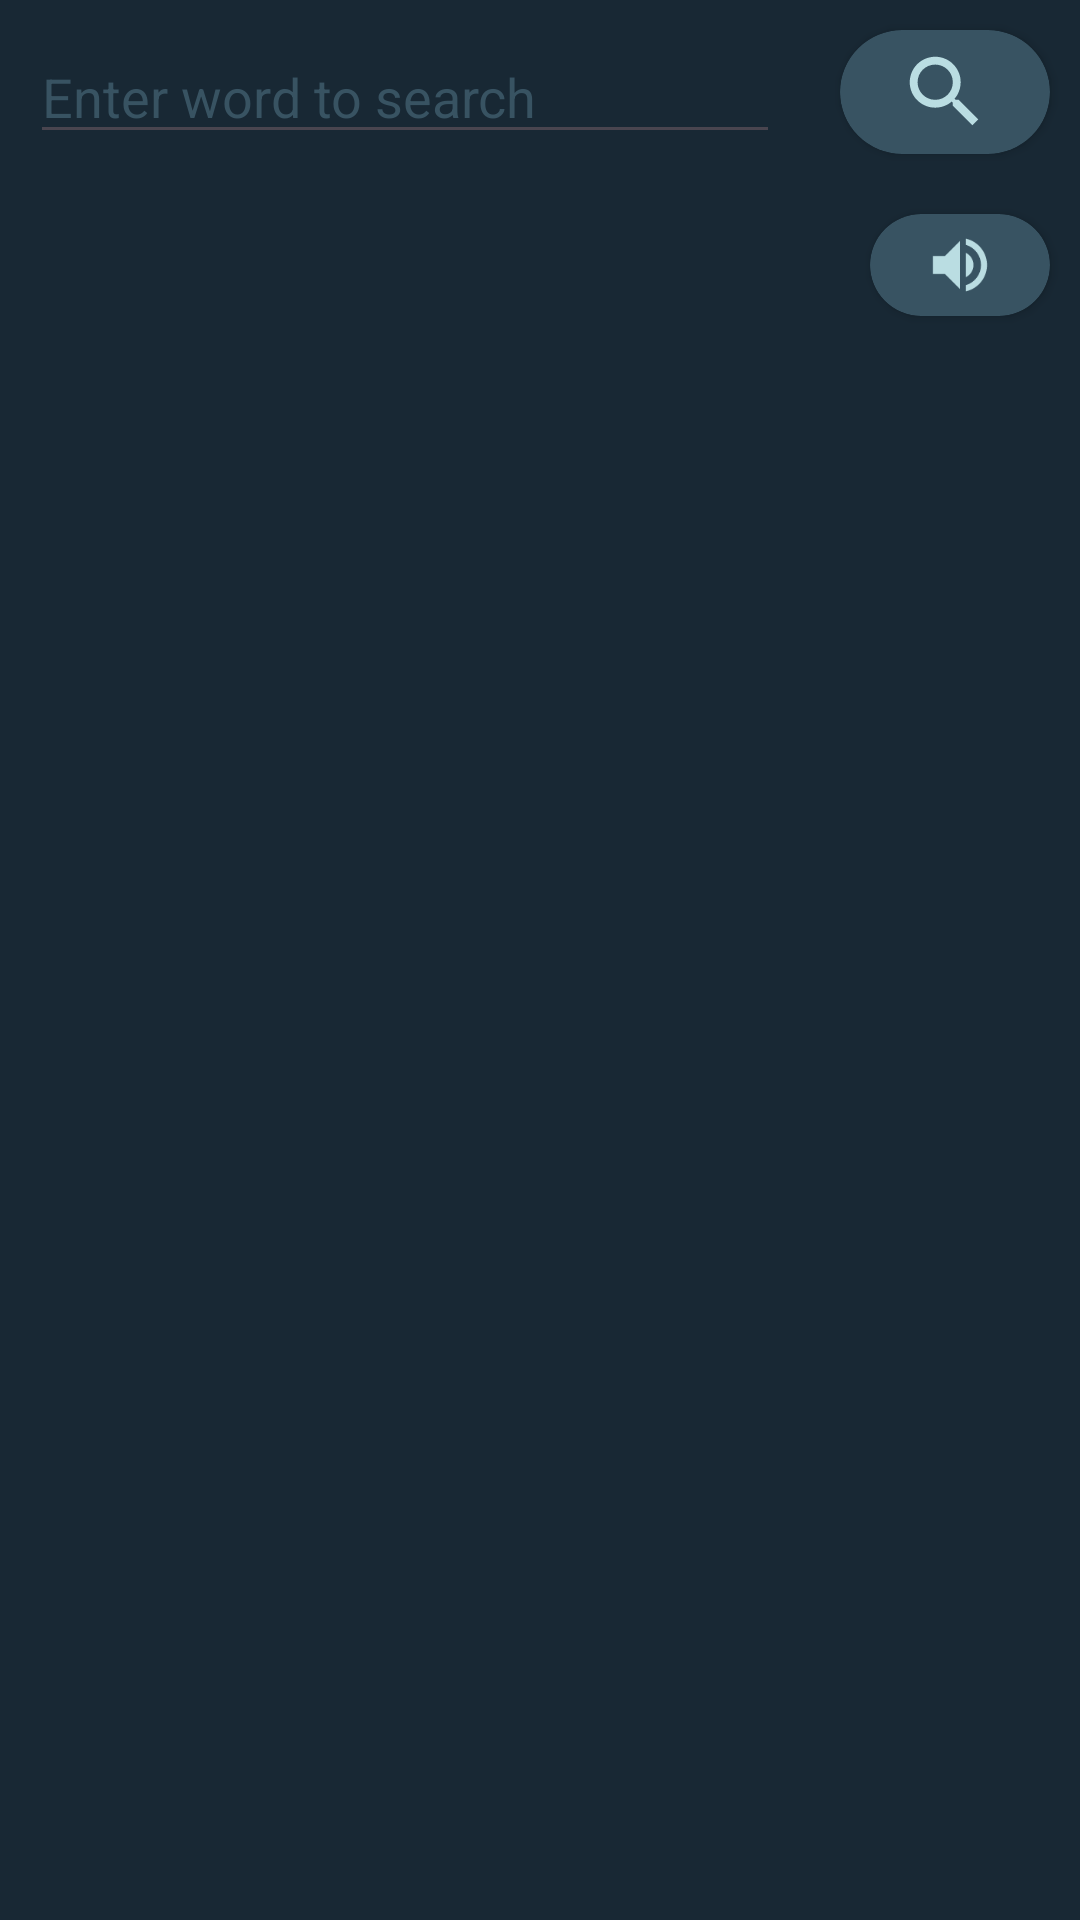

Point at icon controls on the screen. Image size 1080 x 1920, points as (x,y).
volume up: (960,265)
